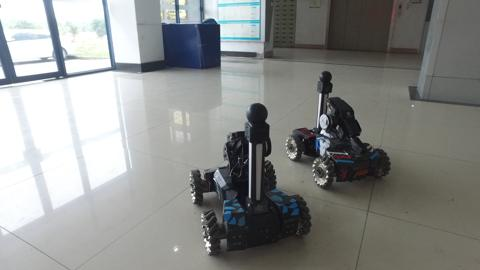chariot: (182, 100, 317, 258), (283, 63, 397, 188)
